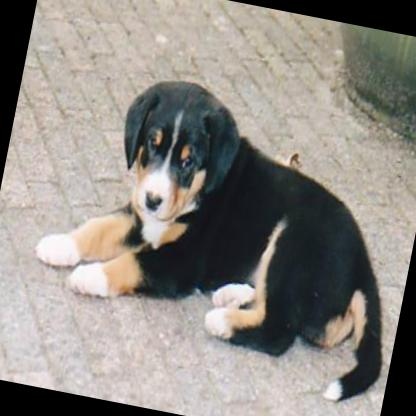EntleBucher: (13, 46, 416, 416)
